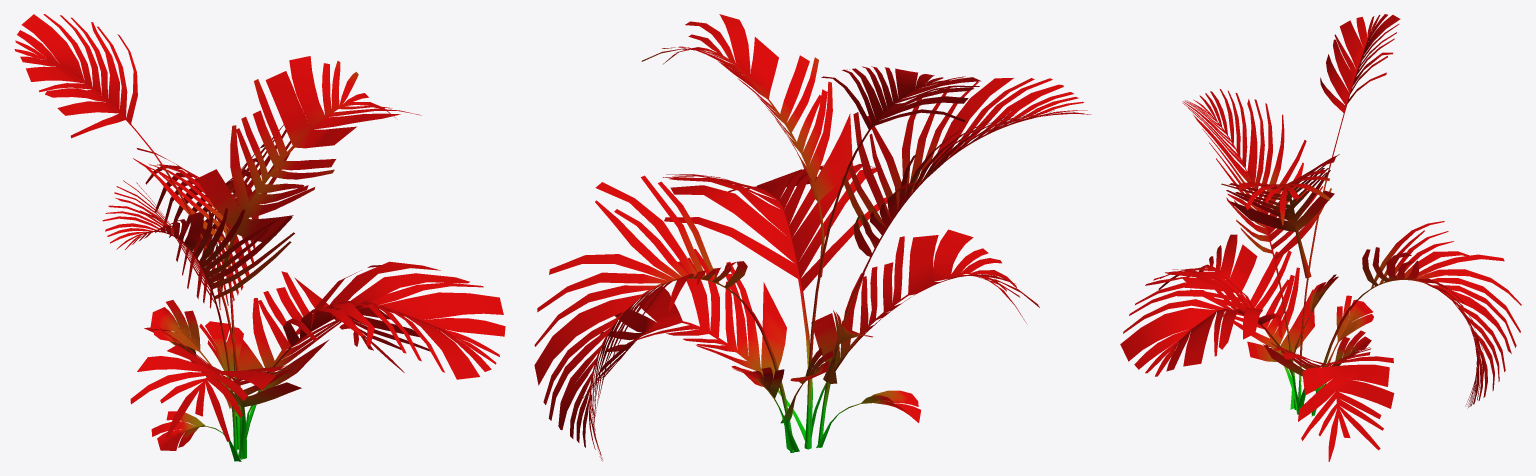
Rendered from PlantPalm06.fbx.
The picture shows the model from 3 angles, left to right: view 1: azimuth 30°, elevation 25°; view 2: azimuth 150°, elevation 25°; view 3: azimuth 270°, elevation 25°; orthographic projection. The views are drawn at different scales.
Visible parts, largest first — view 1: _7303_Var2_LOD0; view 2: _7303_Var2_LOD0; view 3: _7303_Var2_LOD0.
Boxes of the visible parts, box(x1,y1,x2,y2) form: _7303_Var2_LOD0: box(14, 14, 505, 461); _7303_Var2_LOD0: box(534, 14, 1091, 461); _7303_Var2_LOD0: box(1120, 14, 1521, 461).
Bounding box in the file's own units: 123 × 130 × 140.
